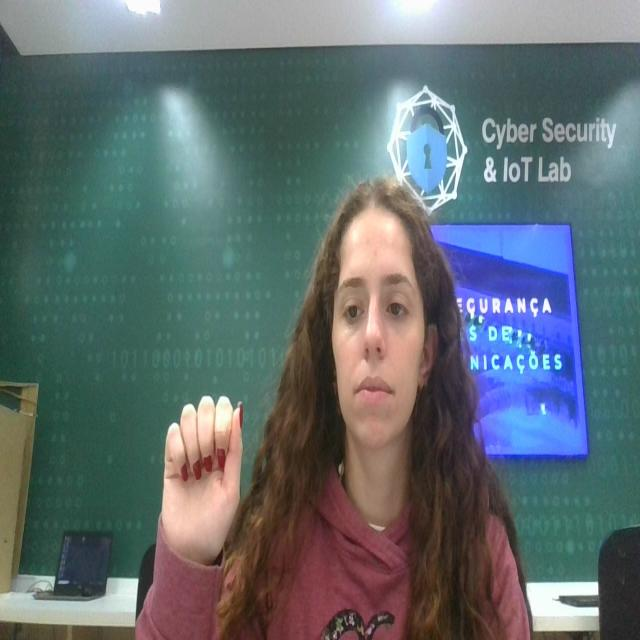A: (154, 386, 256, 564)
